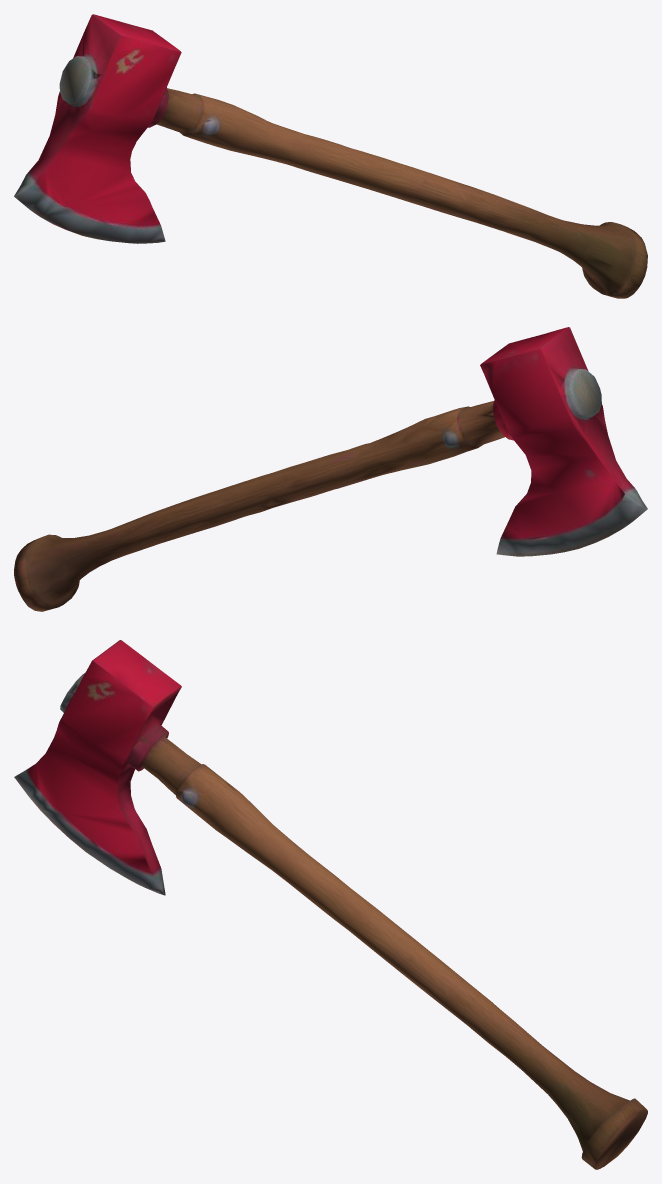
The model's file is fireaxe.glb.
The picture shows the model from 3 angles, top to bottom: view 1: azimuth 30°, elevation 25°; view 2: azimuth 150°, elevation 25°; view 3: azimuth 330°, elevation 25°; orthographic projection.
Parts seen in each view (by area): view 1: Mesh_0; view 2: Mesh_0; view 3: Mesh_0.
Boxes of the visible parts, <box> form: Mesh_0: <box>14,14,647,298</box>; Mesh_0: <box>14,327,647,611</box>; Mesh_0: <box>14,640,647,1169</box>.
Bounding box in the file's own units: 1 × 0.6028 × 0.1254.
Materials: 1 (1 with a texture image).
